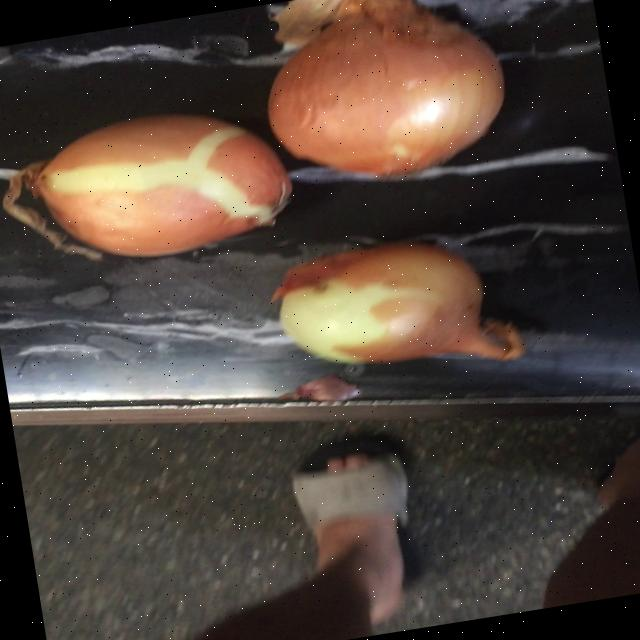Onion: (268, 0, 503, 176), (29, 114, 290, 256), (272, 243, 525, 364)
